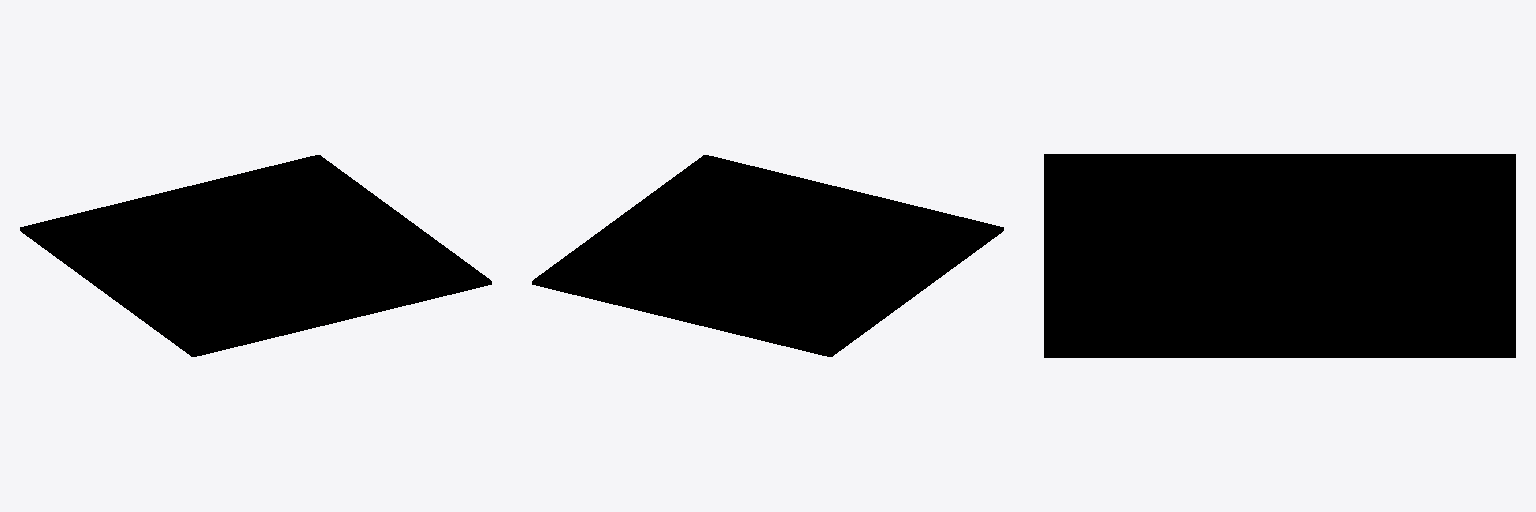
URDF robot description (base plate):
<?xml version="1.0"?>
<!-- created with Phobos 1.0.1 "Capricious Choutengan" -->
  <robot name="base plate">

    <link name="Untitled">
      <inertial>
        <origin xyz="0 0 0" rpy="0 0 0"/>
        <mass value="0.001"/>
        <inertia ixx="0.001" ixy="0" ixz="0" iyy="0.001" iyz="0" izz="0.001"/>
      </inertial>
      <visual name="Cube">
        <origin xyz="0 0 0" rpy="0 0 0"/>
        <geometry>
          <box size="0.75 0.75 0.01"/>
        </geometry>
        <material name="Material.004"/>
      </visual>
    </link>

    <material name="Material.004">
      <color rgba="0 0 0 1.0"/>
    </material>

  </robot>

--- Facts derived from the render (not from the file) ---
3 views of the same robot in one strip: view 1: azimuth 30°, elevation 25°; view 2: azimuth 150°, elevation 25°; view 3: azimuth 270°, elevation 25° (orthographic).
Robot: base plate — 1 links, 0 joints (none); root link Untitled; default pose: all joints at 0.
Links seen in each view (by area): view 1: Untitled; view 2: Untitled; view 3: Untitled.
Boxes of the visible links, x1=… form: Untitled: x1=20, y1=155, x2=491, y2=356; Untitled: x1=532, y1=155, x2=1003, y2=356; Untitled: x1=1044, y1=154, x2=1515, y2=357.
Bounding box of the posed robot: 0.75 × 0.75 × 0.01 m (x, y, z).
Geometry: primitives only (box / cylinder / sphere), no mesh files.
